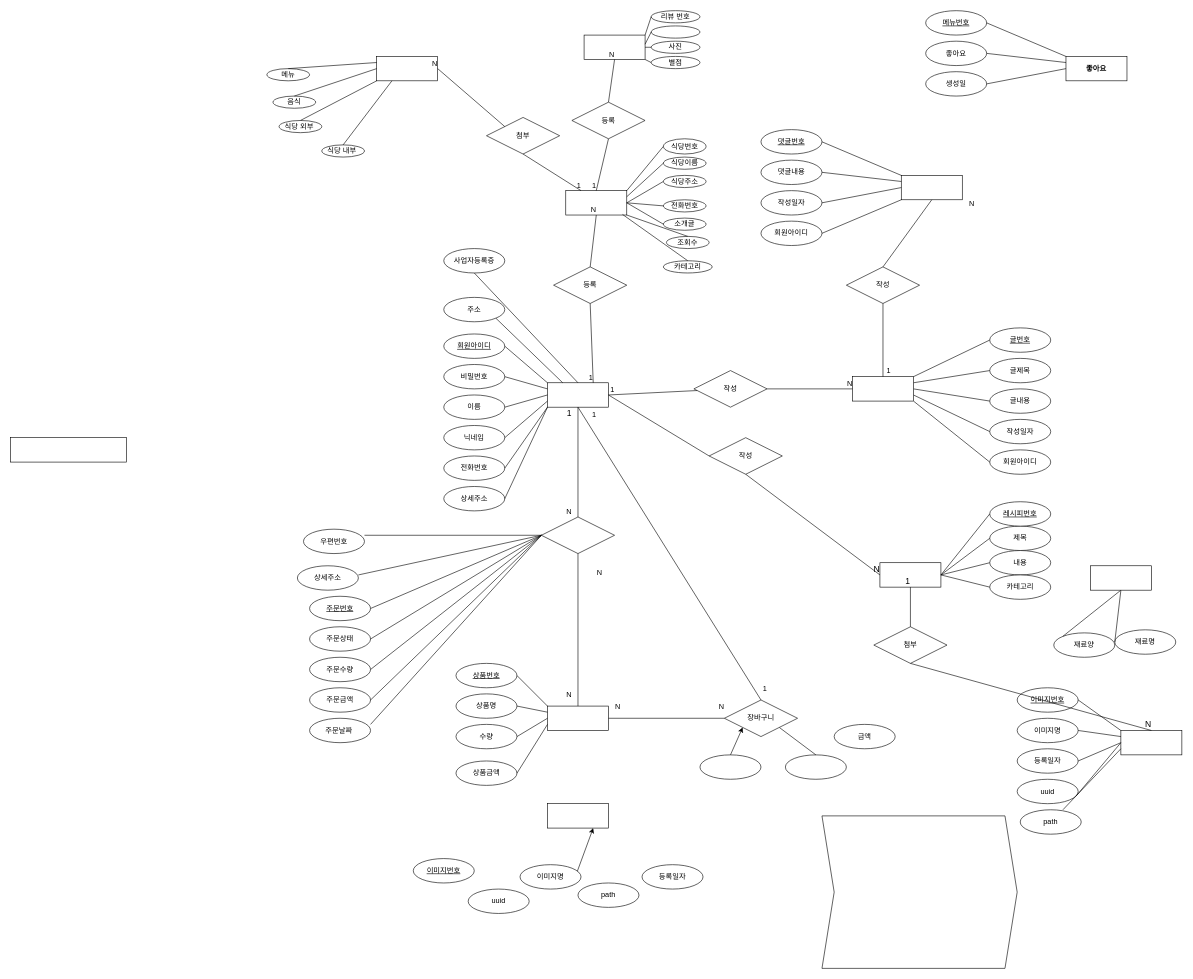
Some shapes in this 1193 by 979 pixel diagram are drawn without their labels. The shapes that lost their labels are listed below. From the top down, each one's centre as x and y in pixels, then its label:
At point (614, 46): "리뷰".
At point (675, 31): "리뷰 내용".
At point (407, 68): "식당 사진".
At point (596, 202): "식당".
At point (931, 187): "댓글".
At point (577, 394): "회원".
At point (882, 388): "게시글".
At point (68, 449): "장바구니 > 세션처리할지".
At point (578, 535): "주문".
At point (910, 574): "레시피".
At point (1120, 577): "레시피 재료".
At point (577, 717): "상품".
At point (1151, 742): "레시피 이미지".
At point (730, 766): "장바구니수량".
At point (815, 766): "장바구니번호".
At point (577, 815): "상품 이미지".
At point (919, 891): "이미지, 좋아요 같은 엔티티는 공통으로 빼기 M:N의 관계는 각각 관계테이블의 키를 가져와서 자식테이블 생성됨".
